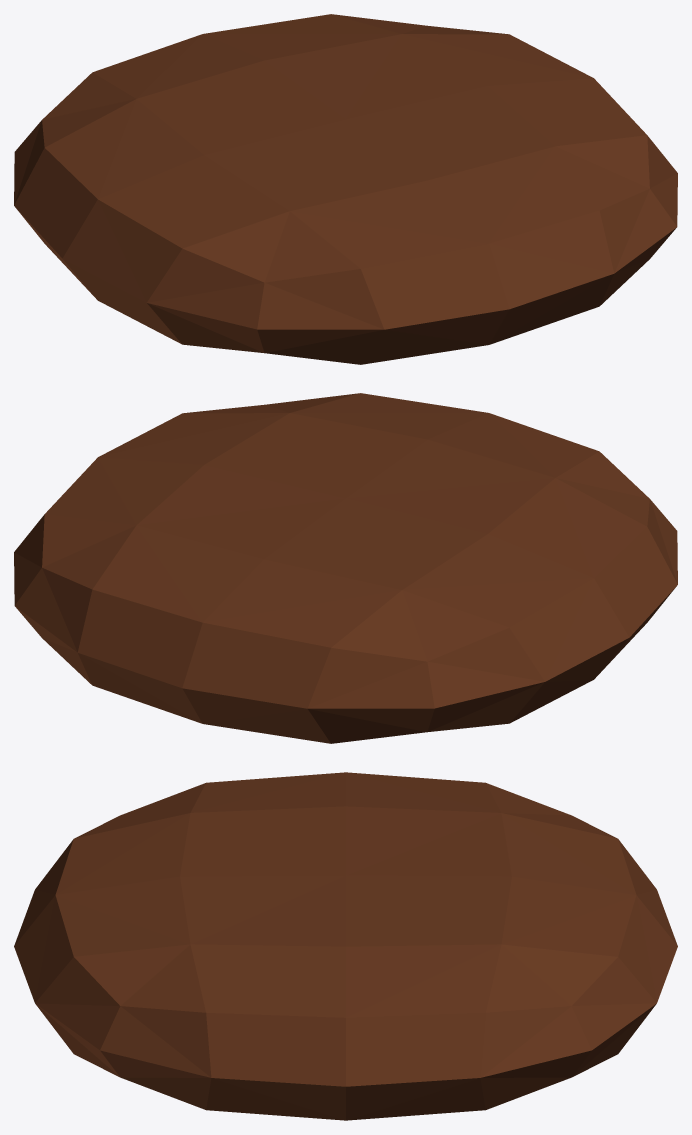
The model's file is BurgerPatty_Cooked.obj.
3 views of the same model, one above another, from view 1: azimuth 30°, elevation 25°; view 2: azimuth 150°, elevation 25°; view 3: azimuth 270°, elevation 25° (orthographic).
Visible parts, largest first — view 1: BurgerPatty_Cooked; view 2: BurgerPatty_Cooked; view 3: BurgerPatty_Cooked.
Part boxes in pixels (<box>): BurgerPatty_Cooked: <box>14,14,677,364</box>; BurgerPatty_Cooked: <box>14,393,677,743</box>; BurgerPatty_Cooked: <box>14,772,677,1120</box>.
Bounding box in the file's own units: 1.43 × 0.3364 × 1.43.
